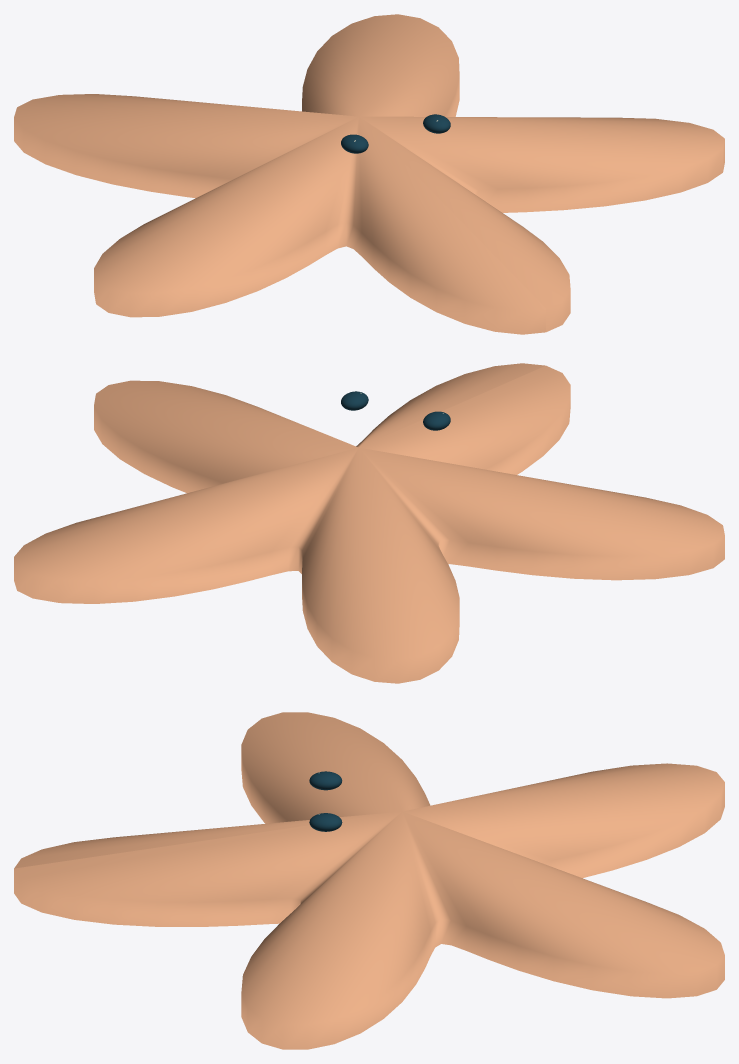
File: starfish.gltf
3 renders of one model, top to bottom at view 1: azimuth 30°, elevation 25°; view 2: azimuth 150°, elevation 25°; view 3: azimuth 270°, elevation 25°, orthographic. The views are drawn at different scales.
Visible parts, largest first — view 1: Group; view 2: Group; view 3: Group.
Boxes of the visible parts, x1,y1,x2,y2 form: Group: [14, 14, 724, 334]; Group: [14, 363, 724, 683]; Group: [14, 712, 724, 1049].
Size of the model in its own units: 1.35 by 0.235 by 1.3.
